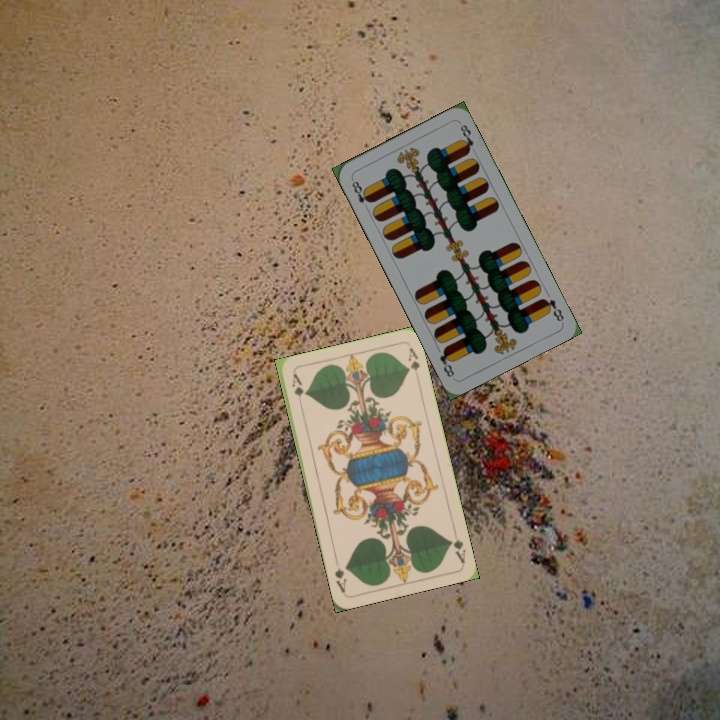E8: (348, 175, 374, 213), (538, 294, 566, 324)
GA: (445, 525, 468, 565), (288, 370, 306, 410)
